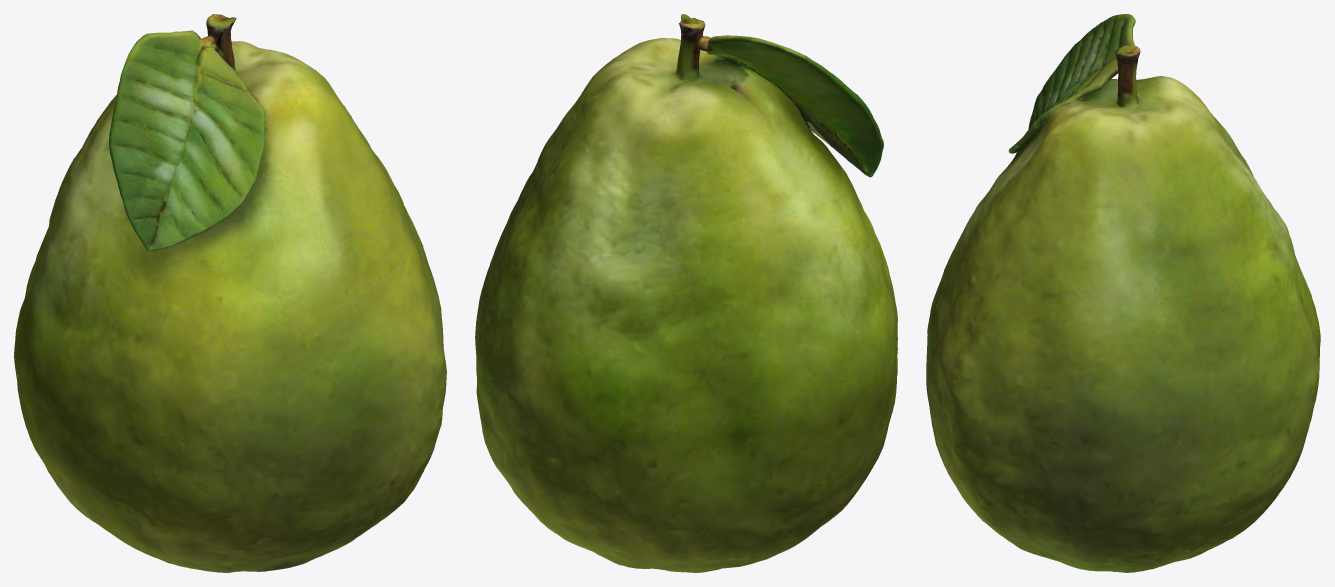
3 renders of one model, left to right at view 1: azimuth 30°, elevation 25°; view 2: azimuth 150°, elevation 25°; view 3: azimuth 270°, elevation 25°, orthographic. The views are drawn at different scales.
Bounding box in the file's own units: 1.43 × 1.9 × 1.38.
1 material, 1 textured.
